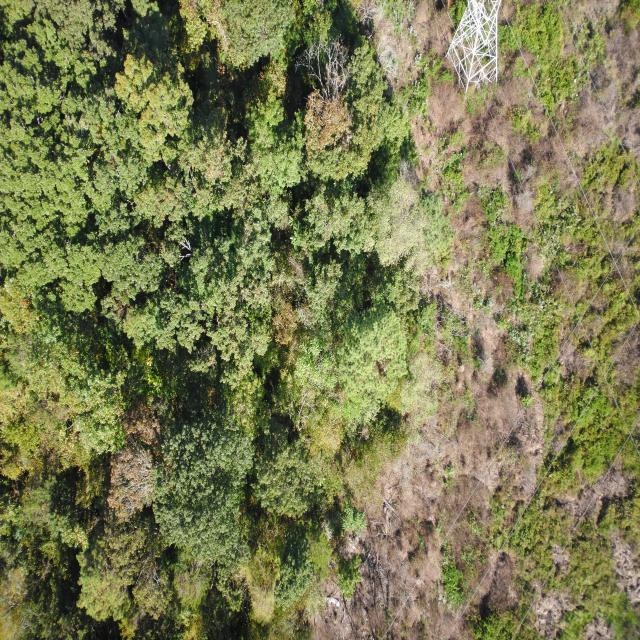Area of Interest: (6, 4, 414, 632)
